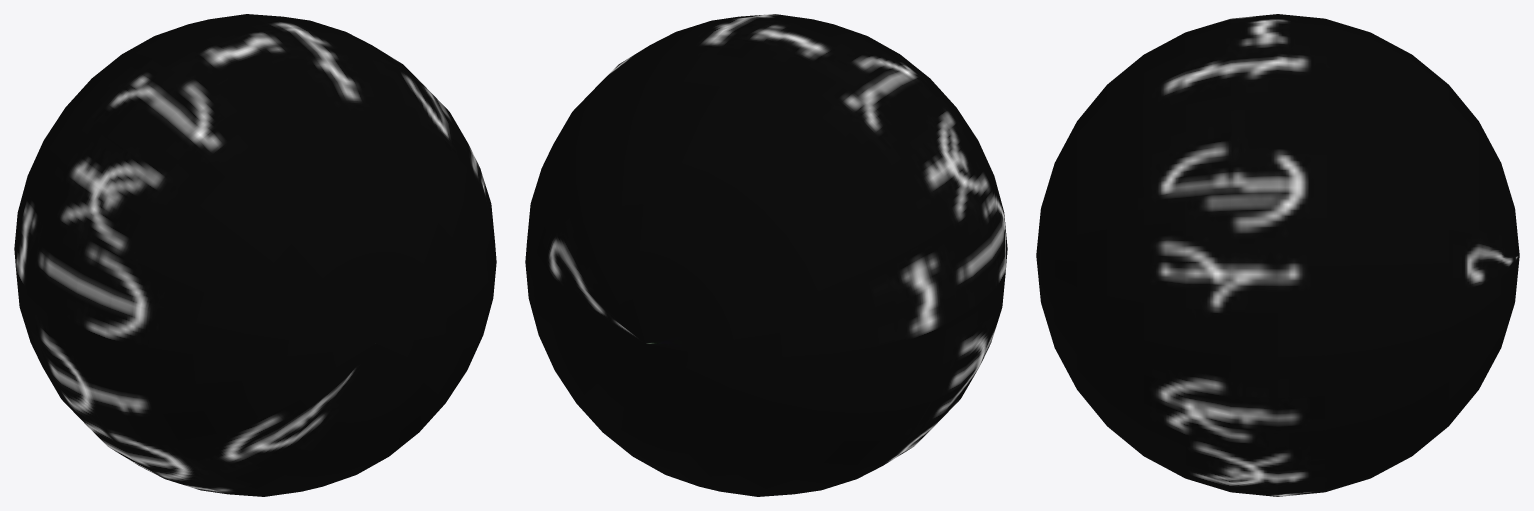
File: zombietower1.glb
3 renders of one model, left to right at view 1: azimuth 30°, elevation 25°; view 2: azimuth 150°, elevation 25°; view 3: azimuth 270°, elevation 25°, orthographic.
Visible parts, largest first — view 1: Sphere.019; view 2: Sphere.019; view 3: Sphere.019.
Boxes of the visible parts, left/top/right/bottom form: Sphere.019: left=14, top=14, right=496, bottom=496; Sphere.019: left=525, top=14, right=1007, bottom=496; Sphere.019: left=1036, top=14, right=1519, bottom=496.
Size of the model in its own units: 6666 by 6666 by 6666.
Materials: 278 (278 with a texture image).
